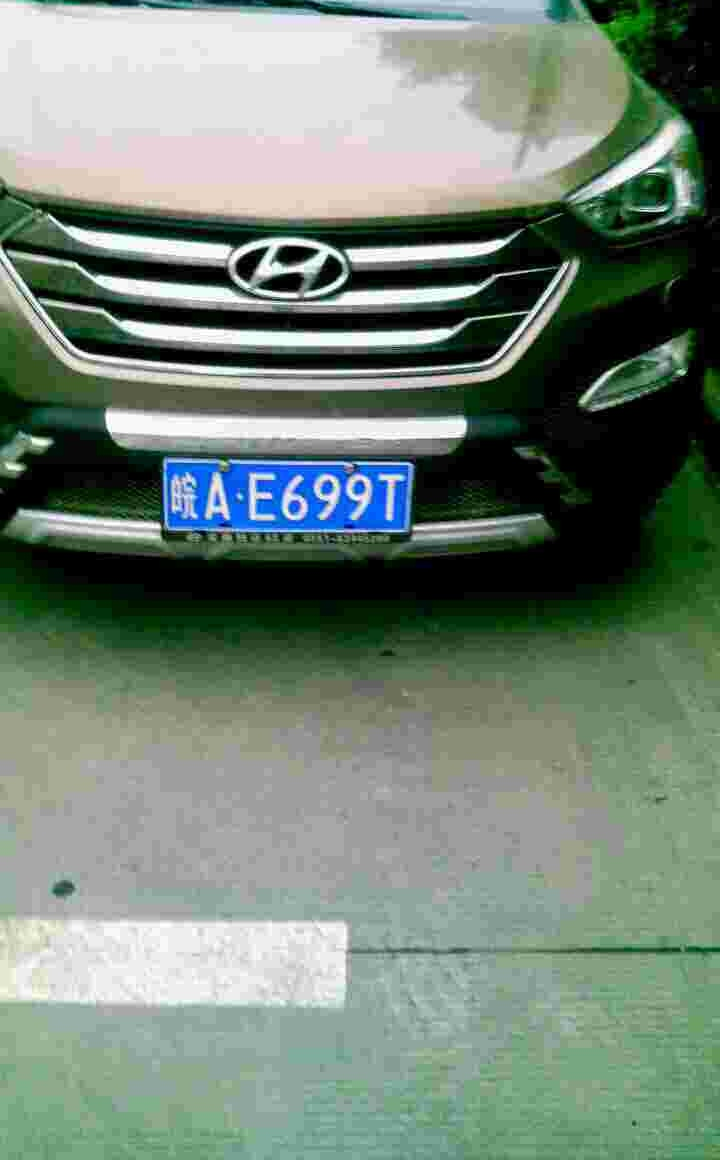plate: (165, 458, 419, 537)
